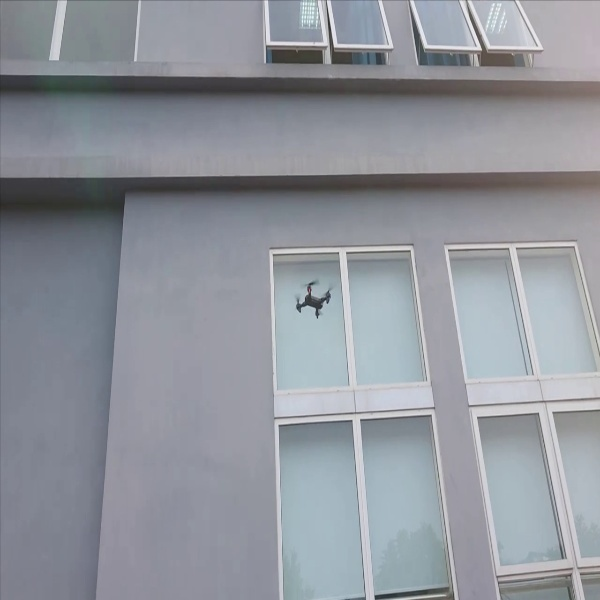drone: (284, 271, 342, 326)
